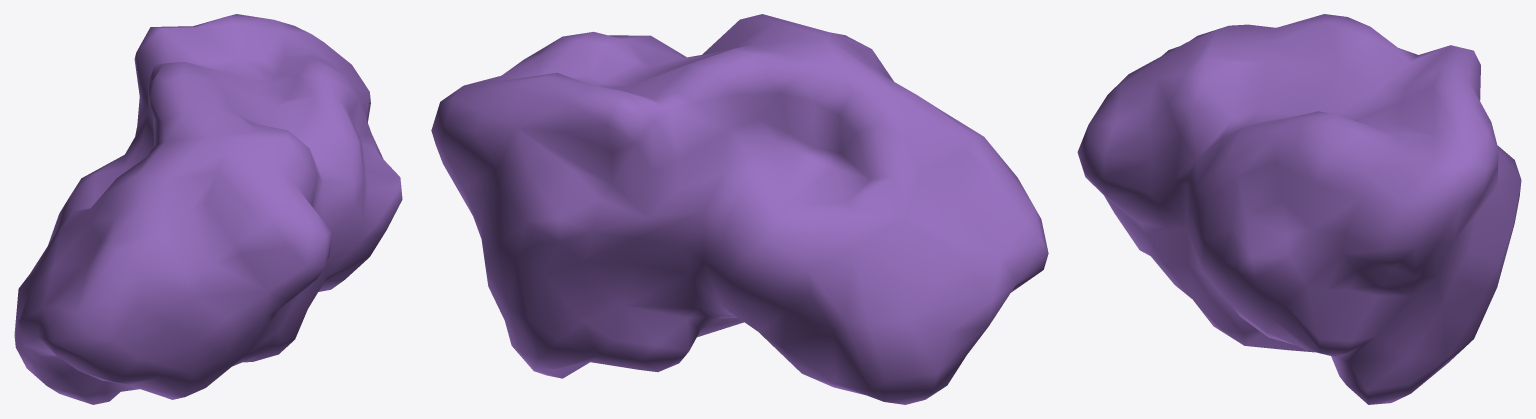
File: AntiTrypsin_1.dae
3 views of the same model, side by side, from view 1: azimuth 30°, elevation 25°; view 2: azimuth 150°, elevation 25°; view 3: azimuth 270°, elevation 25° (orthographic). The views are drawn at different scales.
Visible parts, largest first — view 1: CoarseMS_1atuRed85; view 2: CoarseMS_1atuRed85; view 3: CoarseMS_1atuRed85.
Boxes of the visible parts, x1,y1,x2,y2 form: CoarseMS_1atuRed85: (14,14,402,404); CoarseMS_1atuRed85: (431,14,1048,404); CoarseMS_1atuRed85: (1077,14,1521,404).
Size of the model in its own units: 70.1 by 45.91 by 59.19.
